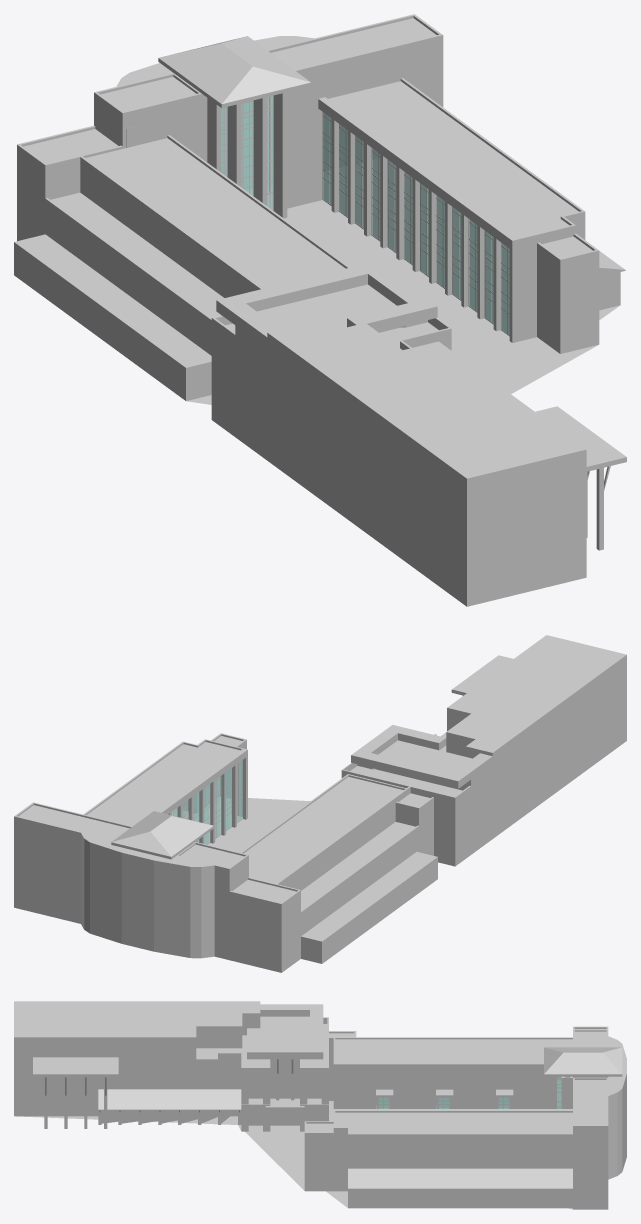
File: Lutgert_Holmes.fbx
3 views of the same model, one above another, from view 1: azimuth 30°, elevation 25°; view 2: azimuth 150°, elevation 25°; view 3: azimuth 270°, elevation 25° (orthographic). The views are drawn at different scales.
Visible parts, largest first — view 1: Model; view 2: Model; view 3: Model.
Part boxes in pixels (x1,y1,x2,y2): Model: (14,14,626,606); Model: (14,635,626,972); Model: (14,1001,626,1209).
Bounding box in the file's own units: 45.96 × 16.17 × 92.12.
